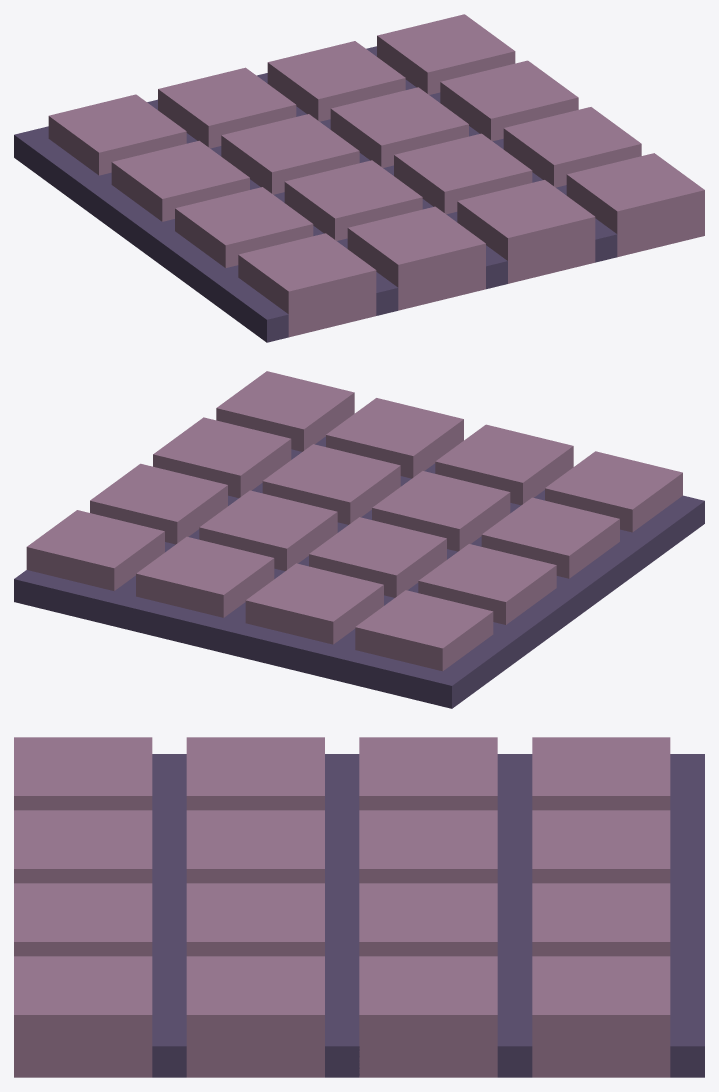
Rendered from alien-biosphere-cracked-tile-4375e5bf__22760.glb.
3 views of the same model, one above another, from view 1: azimuth 30°, elevation 25°; view 2: azimuth 150°, elevation 25°; view 3: azimuth 270°, elevation 25° (orthographic). The views are drawn at different scales.
Parts seen in each view (by area): view 1: cracked-tile; view 2: cracked-tile; view 3: cracked-tile.
Boxes of the visible parts, <box> form: cracked-tile: <box>14,14,704,342</box>; cracked-tile: <box>14,371,704,708</box>; cracked-tile: <box>14,737,704,1077</box>.
Bounding box in the file's own units: 4 × 0.4 × 4.
